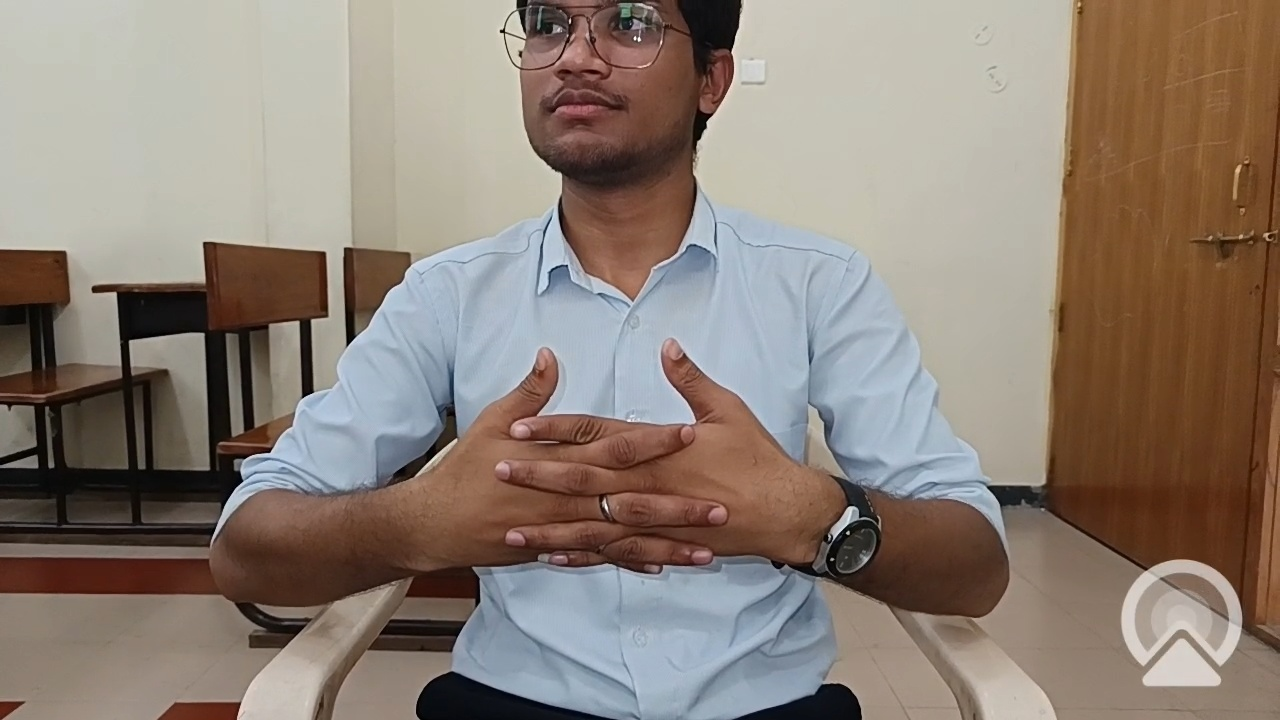W: (373, 322, 865, 610)
